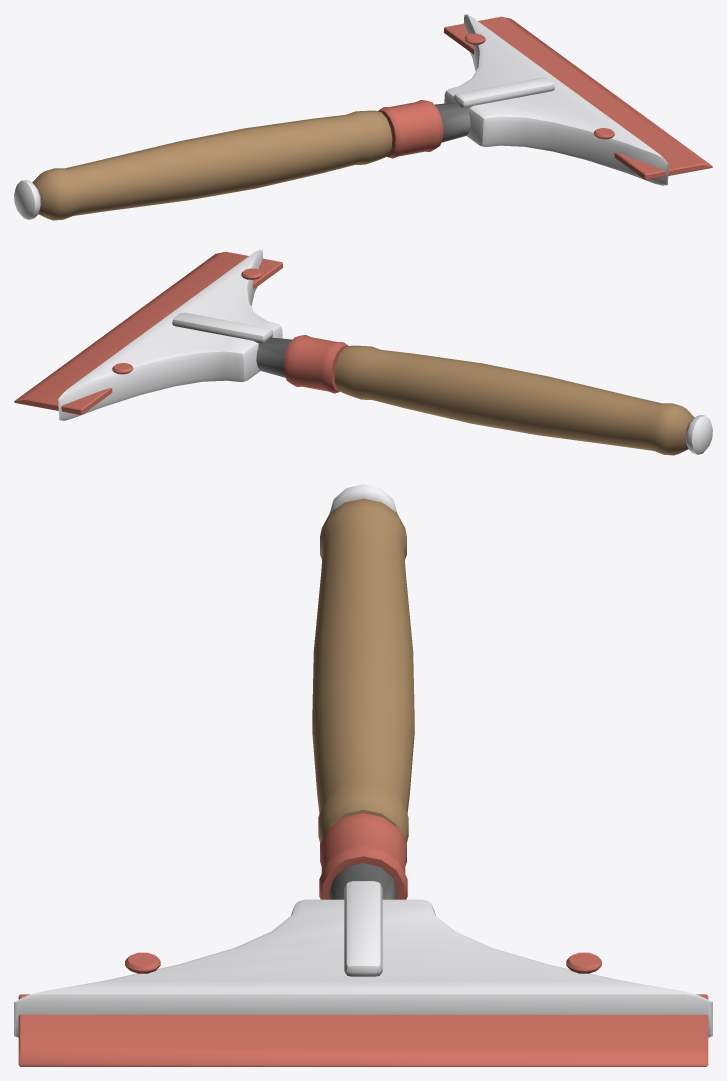
Rendered from scraper_gold.glb.
The picture shows the model from 3 angles, top to bottom: view 1: azimuth 30°, elevation 25°; view 2: azimuth 150°, elevation 25°; view 3: azimuth 270°, elevation 25°; orthographic projection. The views are drawn at different scales.
Visible parts, largest first — view 1: PART; view 2: PART; view 3: PART.
Part boxes in pixels (x1=…): PART: x1=14, y1=14, x2=712, y2=220; PART: x1=14, y1=249, x2=712, y2=455; PART: x1=14, y1=484, x2=712, y2=1066.
Bounding box in the file's own units: 0.4233 × 0.0472 × 0.2535.
